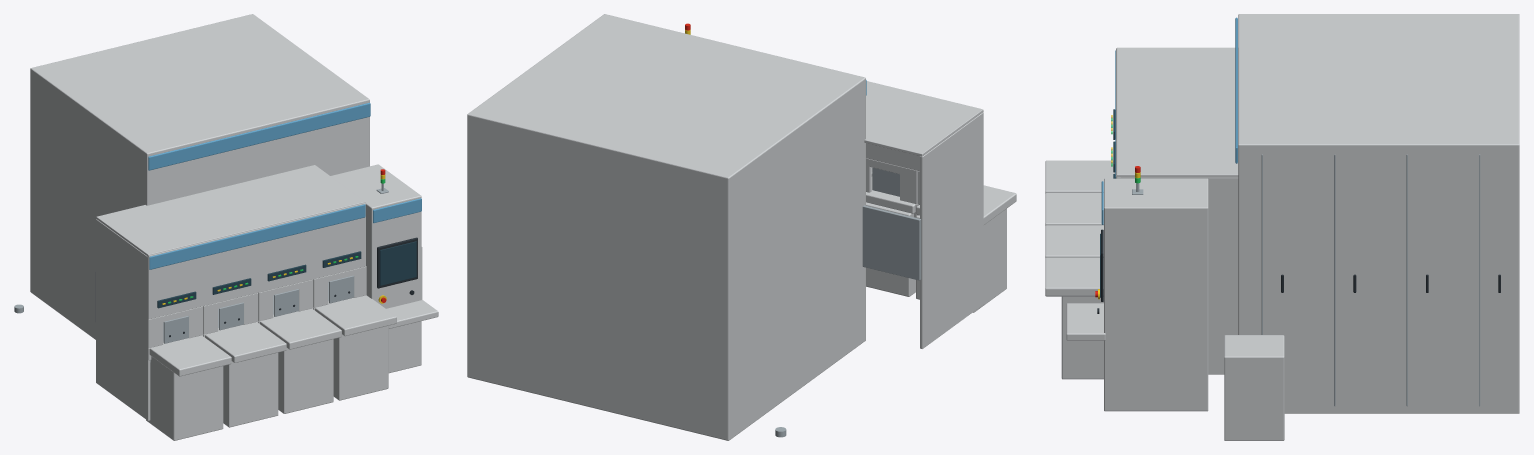
Rendered from Ion_Implanter_Animated.fbx.
The picture shows the model from 3 angles, left to right: view 1: azimuth 30°, elevation 25°; view 2: azimuth 150°, elevation 25°; view 3: azimuth 270°, elevation 25°; orthographic projection. The views are drawn at different scales.
Visible parts, largest first — view 1: Rear_Tall_Housing, Cut_EFEM_Roof, Cut_Front_Upper, Cut_EFEM_Left, Console_Cabinet, Port_Body, Port_Body.001, Port_Body.002, Port_Body.003, Rear_Header, Front_Header, Port_Tray (+11 smaller); view 2: Rear_Tall_Housing, Cut_EFEM_Left, Cut_EFEM_Roof, Vacuum_Bulkhead, Port_Body, Port_Body.001, Port_Tray, Cut_Front_Upper, Port_02_Door_Plate, Port_Tray.001; view 3: Rear_Tall_Housing, Console_Cabinet, Cut_EFEM_Roof, Auxiliary_Cabinet, Cut_EFEM_Right, Port_Body.003, Port_Tray.003, Port_Tray, Port_Tray.001, Port_Tray.002, Console_Shelf, Rear_Service_Seam.001 (+2 smaller).
Part boxes in pixels (x1,y1,x2,y2): Rear_Tall_Housing: (30, 14, 369, 339); Cut_EFEM_Roof: (96, 165, 365, 255); Cut_Front_Upper: (147, 203, 365, 319); Cut_EFEM_Left: (96, 219, 150, 420); Console_Cabinet: (330, 164, 421, 373); Port_Body: (146, 356, 223, 440); Port_Body.001: (223, 352, 278, 427); Port_Body.002: (278, 339, 333, 413); Port_Body.003: (333, 325, 388, 400); Rear_Header: (148, 102, 370, 170); Front_Header: (149, 204, 365, 269); Port_Tray: (149, 335, 231, 376); Rear_Tall_Housing: (467, 14, 865, 440); Cut_EFEM_Left: (920, 112, 983, 348); Cut_EFEM_Roof: (864, 81, 983, 156); Vacuum_Bulkhead: (862, 205, 921, 280); Port_Body: (916, 208, 1006, 312); Port_Body.001: (866, 202, 915, 296); Port_Tray: (916, 185, 1016, 224); Cut_Front_Upper: (866, 110, 983, 171); Port_02_Door_Plate: (872, 167, 899, 196); Port_Tray.001: (866, 176, 915, 213); Rear_Tall_Housing: (1238, 14, 1519, 413); Console_Cabinet: (1104, 178, 1208, 411); Cut_EFEM_Roof: (1116, 47, 1238, 177); Auxiliary_Cabinet: (1224, 335, 1284, 440); Cut_EFEM_Right: (1117, 177, 1238, 374); Port_Body.003: (1061, 296, 1103, 379); Port_Tray.003: (1045, 257, 1103, 296); Port_Tray: (1045, 160, 1114, 193); Port_Tray.001: (1045, 193, 1103, 225); Port_Tray.002: (1045, 225, 1103, 257); Console_Shelf: (1066, 303, 1105, 340); Rear_Service_Seam.001: (1334, 154, 1335, 406).
Bounding box in the file's own units: 551 × 370 × 590.
